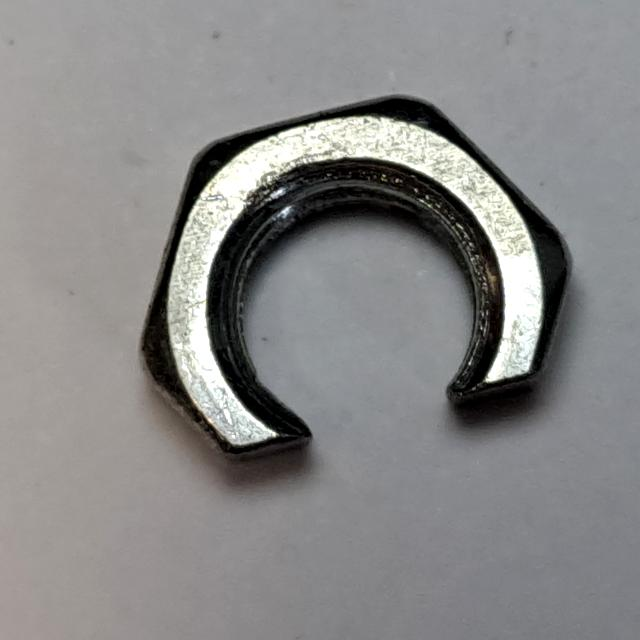Fracture: (121, 76, 589, 480)
